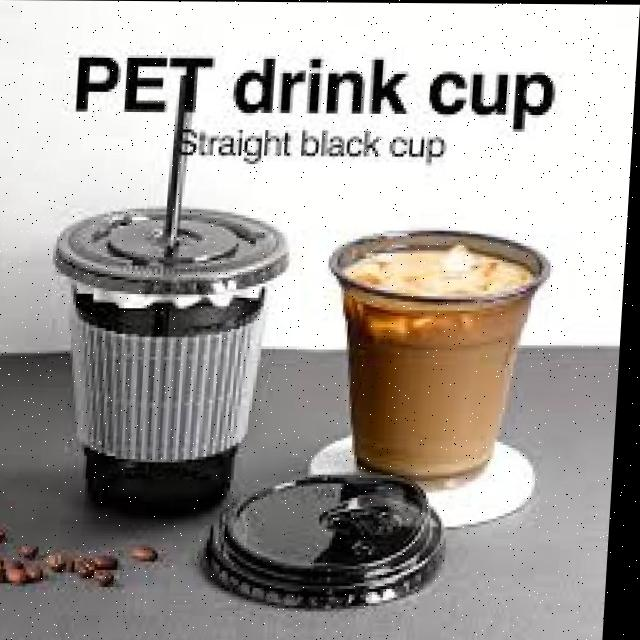cup: (58, 209, 290, 513), (333, 230, 553, 476)
